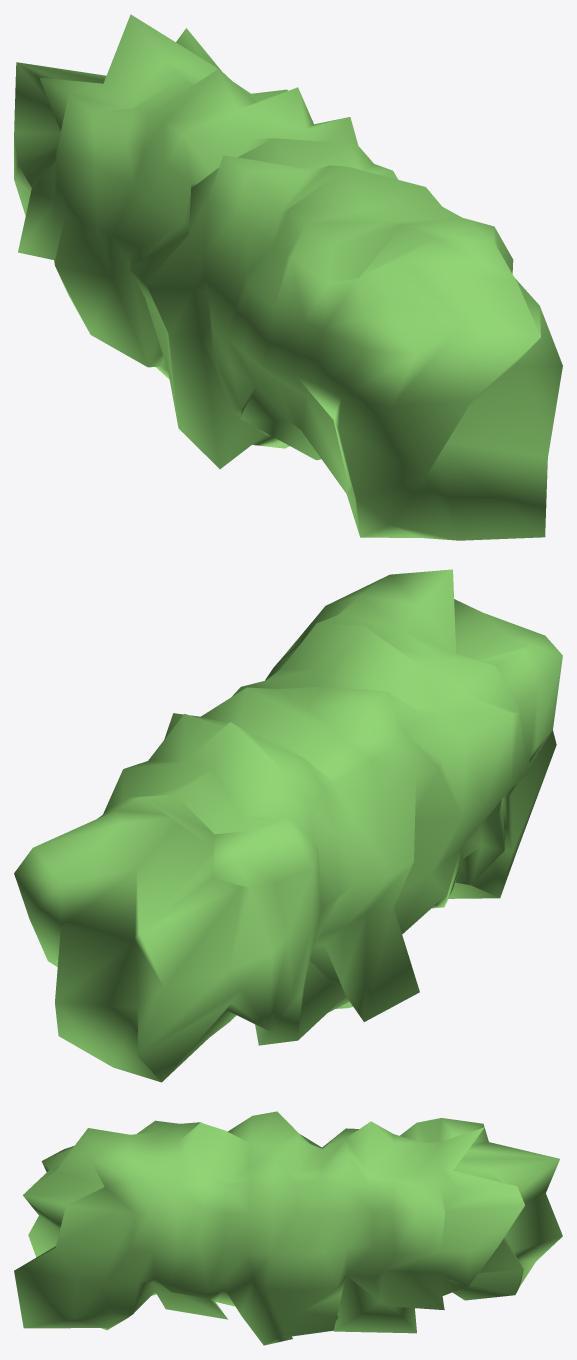
File: grass.fbx
The picture shows the model from 3 angles, top to bottom: view 1: azimuth 30°, elevation 25°; view 2: azimuth 150°, elevation 25°; view 3: azimuth 270°, elevation 25°; orthographic projection. The views are drawn at different scales.
Parts seen in each view (by area): view 1: Cube; view 2: Cube; view 3: Cube.
Boxes of the visible parts, x1,y1,x2,y2 form: Cube: [14, 14, 562, 540]; Cube: [14, 569, 562, 1082]; Cube: [14, 1111, 562, 1345].
Size of the model in its own units: 107 by 133 by 307.
